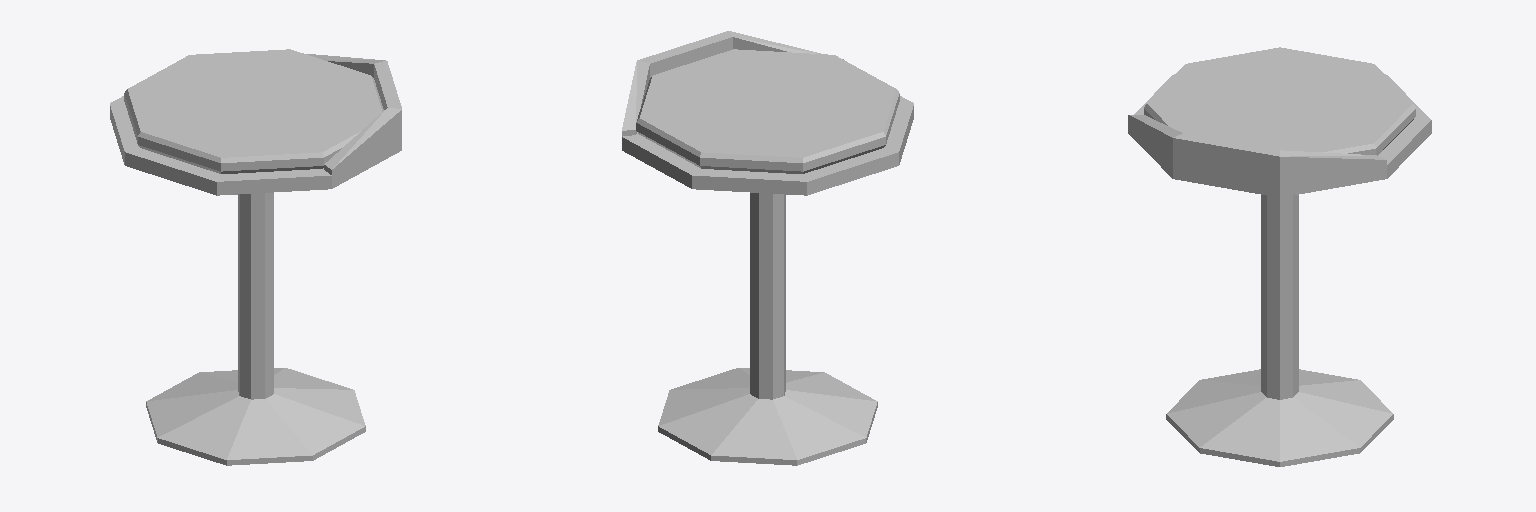
The model's file is chair-cafe.obj.
3 renders of one model, left to right at view 1: azimuth 30°, elevation 25°; view 2: azimuth 150°, elevation 25°; view 3: azimuth 270°, elevation 25°, orthographic.
Visible parts, largest first — view 1: chair_Cube.002, cushion_Cube.000; view 2: chair_Cube.002, cushion_Cube.000; view 3: chair_Cube.002, cushion_Cube.000.
Part boxes in pixels (x1,y1,x2,y2): chair_Cube.002: (110, 54, 401, 465); cushion_Cube.000: (124, 49, 383, 173); chair_Cube.002: (622, 31, 913, 465); cushion_Cube.000: (636, 49, 899, 173); chair_Cube.002: (1128, 74, 1431, 466); cushion_Cube.000: (1144, 47, 1415, 155).
Size of the model in its own units: 0.5 by 0.5949 by 0.5.